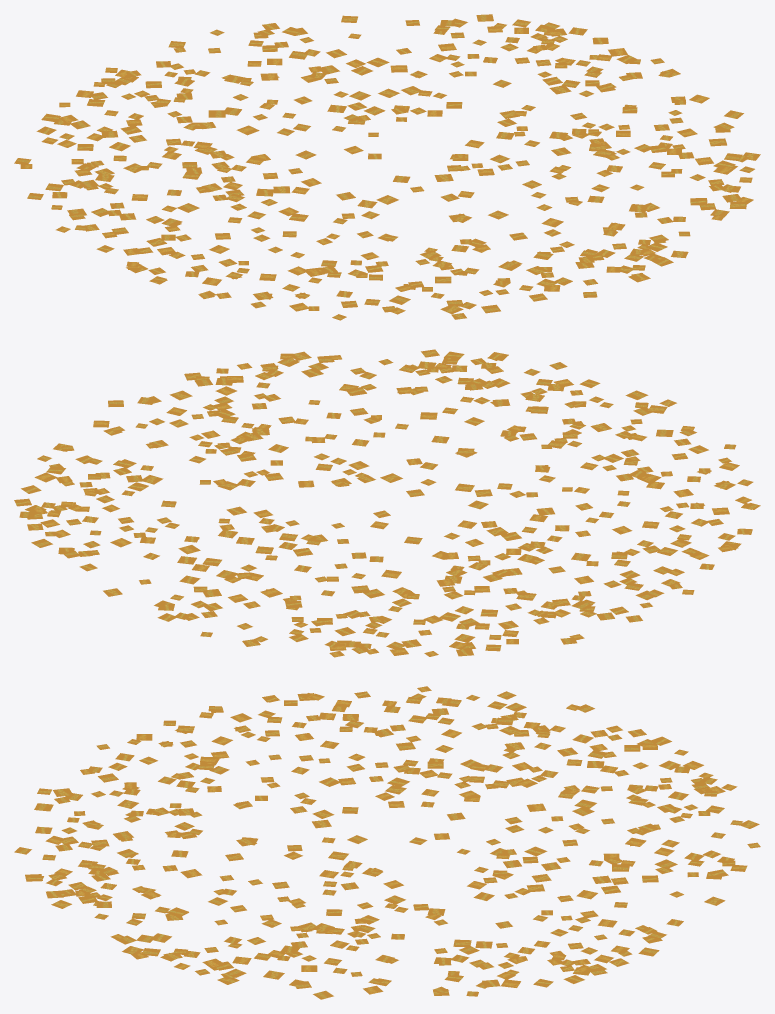
The model's file is saule_adulte_b.fbx.
The picture shows the model from 3 angles, top to bottom: view 1: azimuth 30°, elevation 25°; view 2: azimuth 150°, elevation 25°; view 3: azimuth 270°, elevation 25°; orthographic projection.
Visible parts, largest first — view 1: saule_adulte_b_feuilles_sol; view 2: saule_adulte_b_feuilles_sol; view 3: saule_adulte_b_feuilles_sol.
Part boxes in pixels (x1,y1,x2,y2): saule_adulte_b_feuilles_sol: (14,14,760,320); saule_adulte_b_feuilles_sol: (14,349,760,657); saule_adulte_b_feuilles_sol: (14,686,760,999).
Size of what is drawn, in the model's own units: 19.82 by 0.00599 by 19.95.
